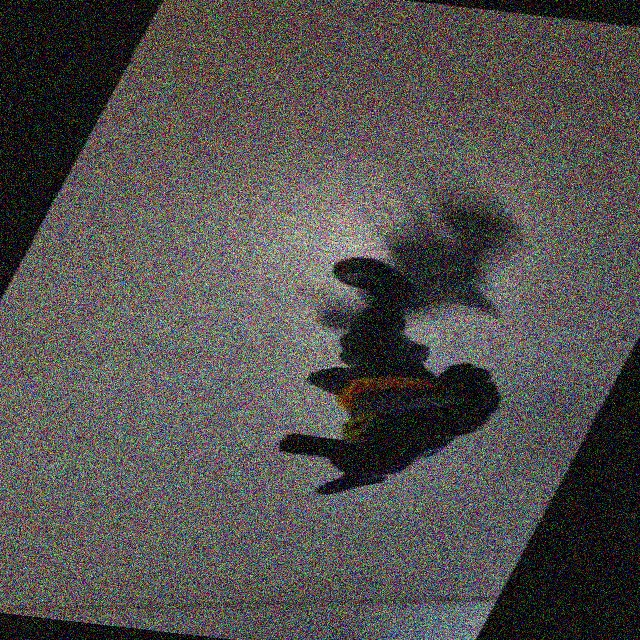Batman: (201, 249, 565, 511)
